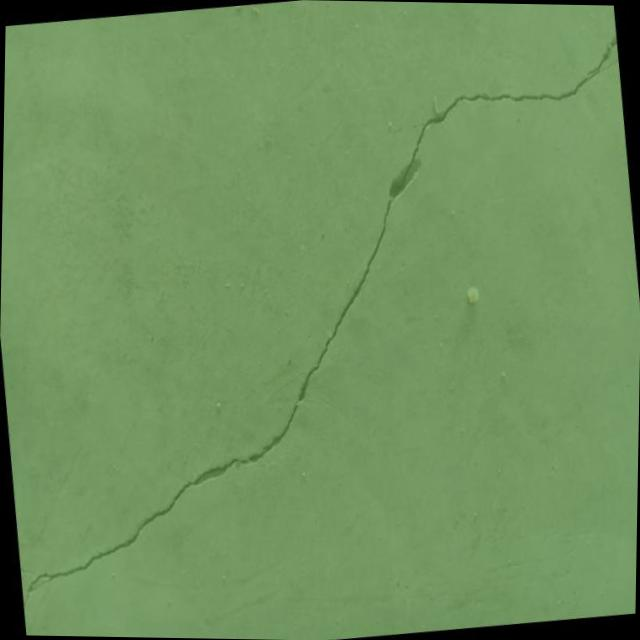crack: (0, 23, 640, 618), (20, 566, 35, 576)
